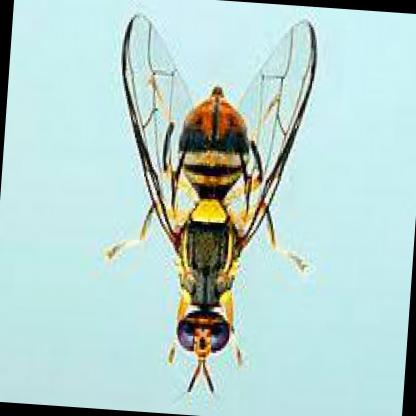fruit fly: (123, 11, 316, 396)
